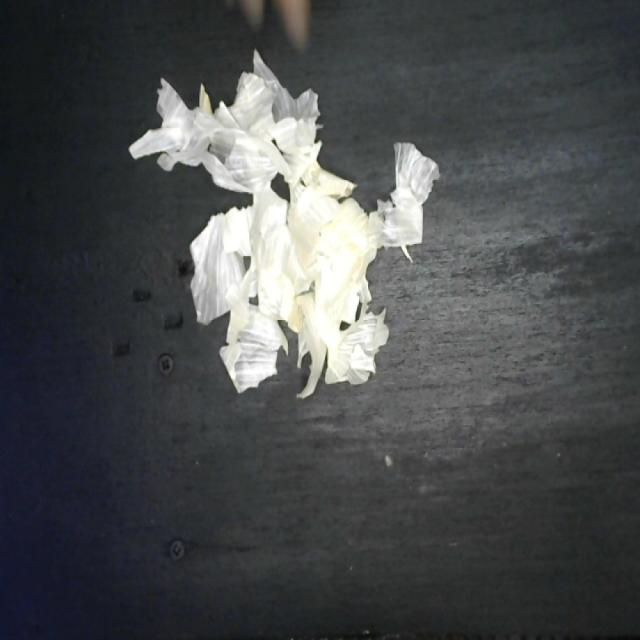biodegradable: (122, 46, 439, 404)
